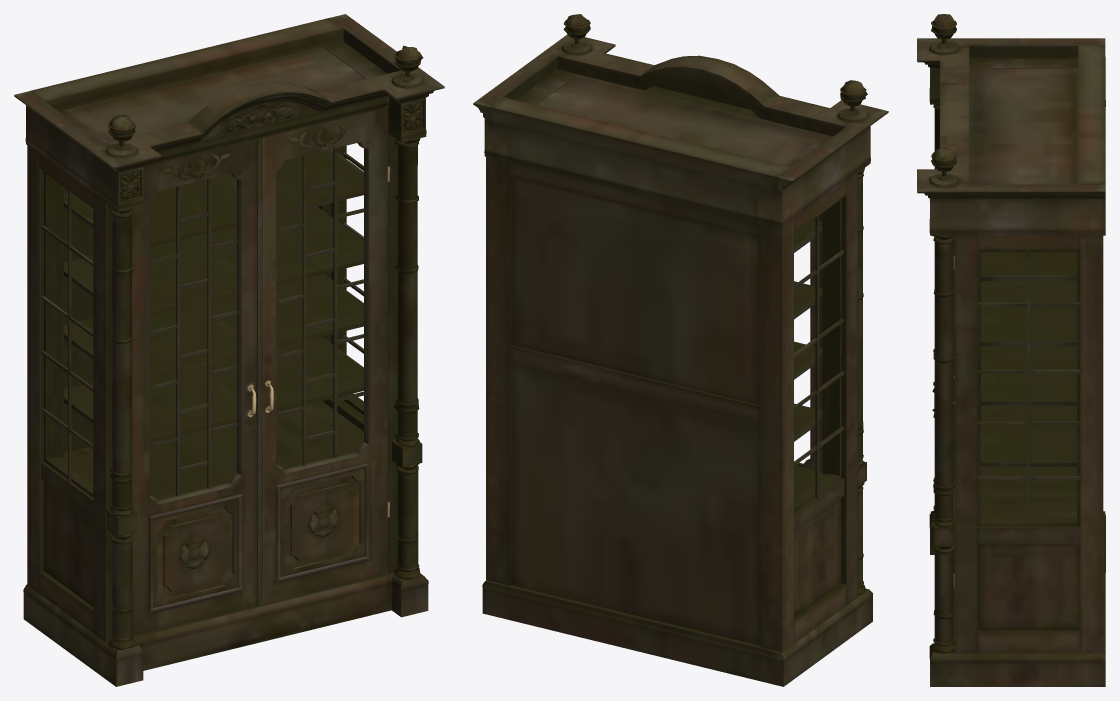
File: SM_Cabinet01_ae3d1a.glb
3 renders of one model, left to right at view 1: azimuth 30°, elevation 25°; view 2: azimuth 150°, elevation 25°; view 3: azimuth 270°, elevation 25°, orthographic. The views are drawn at different scales.
Bounding box in the file's own units: 1.72 × 2.78 × 0.8933.
1 material, 1 textured.
